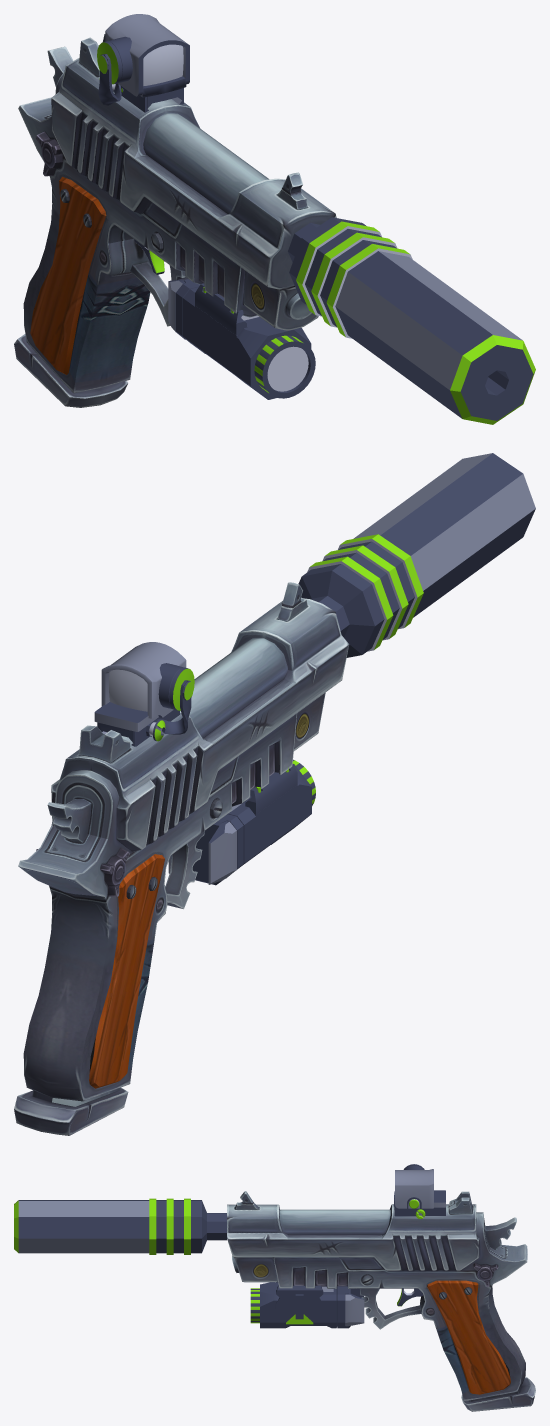
The model's file is Complete_Gun.FBX.
3 renders of one model, top to bottom at view 1: azimuth 30°, elevation 25°; view 2: azimuth 150°, elevation 25°; view 3: azimuth 270°, elevation 25°, orthographic. The views are drawn at different scales.
Visible parts, largest first — view 1: Stylized_Pistol_Body, Pistol_Muzzle-5, Pistol_Laser-4, Pistol_Scope-2, Pistol_Magazine-1; view 2: Stylized_Pistol_Body, Pistol_Muzzle-5, Pistol_Scope-2, Pistol_Laser-4, Pistol_Magazine-1; view 3: Stylized_Pistol_Body, Pistol_Muzzle-5, Pistol_Laser-4, Pistol_Scope-2, Pistol_Magazine-1.
Part boxes in pixels (x1,y1,x2,y2): Stylized_Pistol_Body: (18, 34, 336, 393); Pistol_Muzzle-5: (288, 217, 535, 424); Pistol_Laser-4: (168, 279, 315, 399); Pistol_Scope-2: (97, 14, 189, 112); Pistol_Magazine-1: (14, 334, 127, 407); Stylized_Pistol_Body: (18, 582, 349, 1101); Pistol_Muzzle-5: (298, 453, 535, 657); Pistol_Scope-2: (94, 642, 194, 746); Pistol_Laser-4: (168, 759, 315, 885); Pistol_Magazine-1: (14, 1087, 128, 1135); Stylized_Pistol_Body: (227, 1191, 527, 1401); Pistol_Muzzle-5: (14, 1198, 226, 1254); Pistol_Laser-4: (250, 1282, 364, 1328); Pistol_Scope-2: (394, 1164, 445, 1218); Pistol_Magazine-1: (461, 1377, 535, 1411).
Bounding box in the file's own units: 8.64 × 37.2 × 75.22.
Materials: 3 (3 with a texture image).
